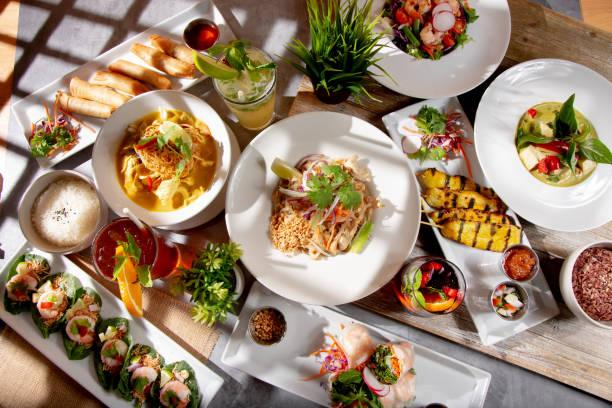Braised Crucian Carp: (379, 82, 573, 359), (6, 0, 246, 174), (225, 108, 415, 306), (1, 241, 223, 405), (222, 285, 482, 406), (476, 59, 612, 232), (93, 89, 236, 229), (360, 0, 511, 99)
